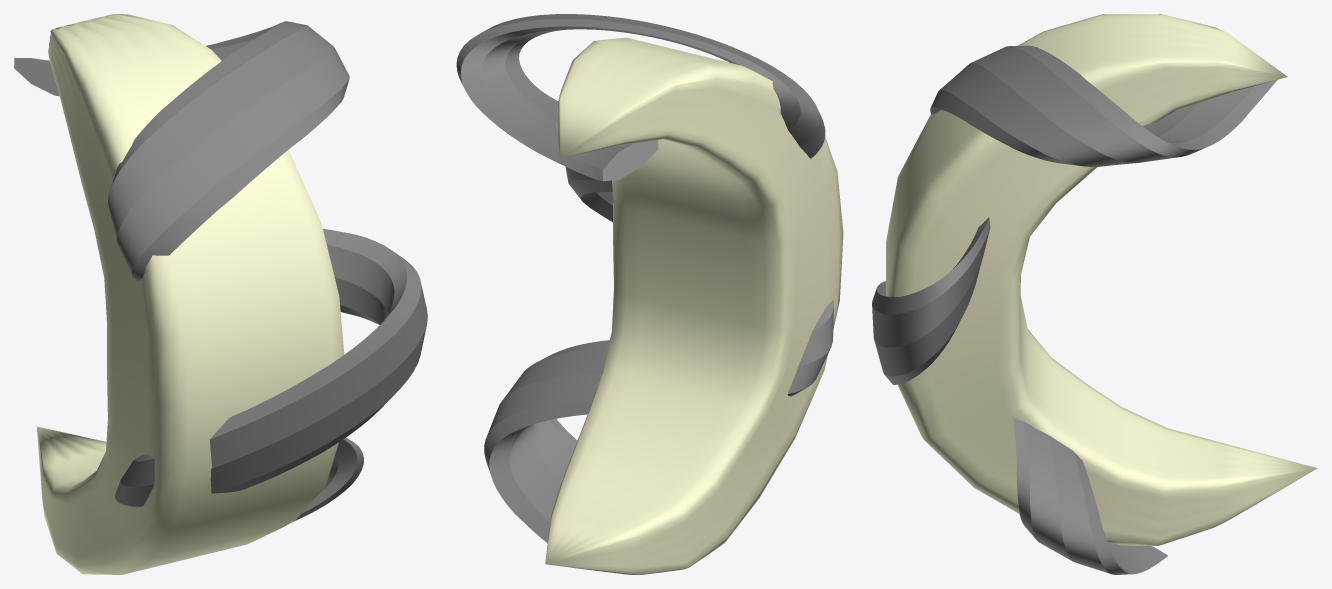
File: moon2.glb
3 views of the same model, side by side, from view 1: azimuth 30°, elevation 25°; view 2: azimuth 150°, elevation 25°; view 3: azimuth 270°, elevation 25° (orthographic). The views are drawn at different scales.
Visible parts, largest first — view 1: pCube2, pHelix2; view 2: pCube2, pHelix2; view 3: pCube2, pHelix2.
Part boxes in pixels (x1,y1,x2,y2): pCube2: [36, 14, 344, 574]; pHelix2: [14, 21, 427, 521]; pCube2: [545, 37, 843, 574]; pHelix2: [456, 14, 833, 542]; pCube2: [886, 14, 1317, 545]; pHelix2: [872, 45, 1277, 574].
Size of the model in its own units: 0.0138 by 0.0243 by 0.0196.
